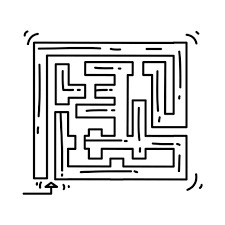maze: (33, 42, 188, 180)
